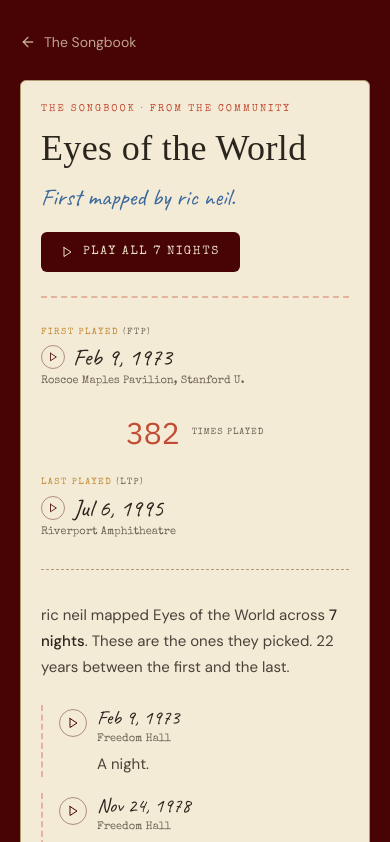
it: the busy state survives a rejection, and a second tap cannot restart it › a second tap while cueing does not start a second run
Later steps or results of the test are not shown.
Step 1. Click the button "Play all 7 nights" → (140,252), box [41,232,240,272]
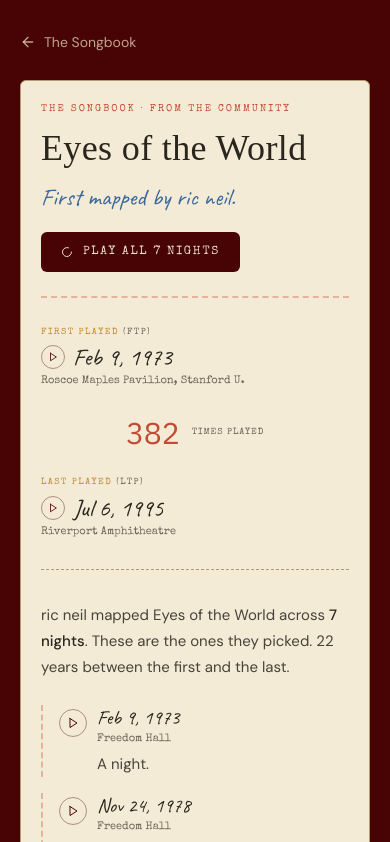
expect the button "Play all 7 nights" is disabled: met, box [41,232,240,272]
